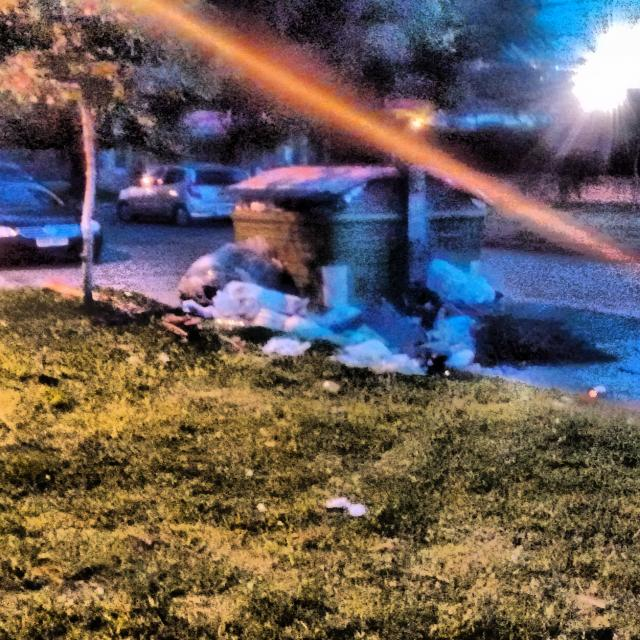garbage: (261, 299, 487, 377), (172, 232, 301, 344)
